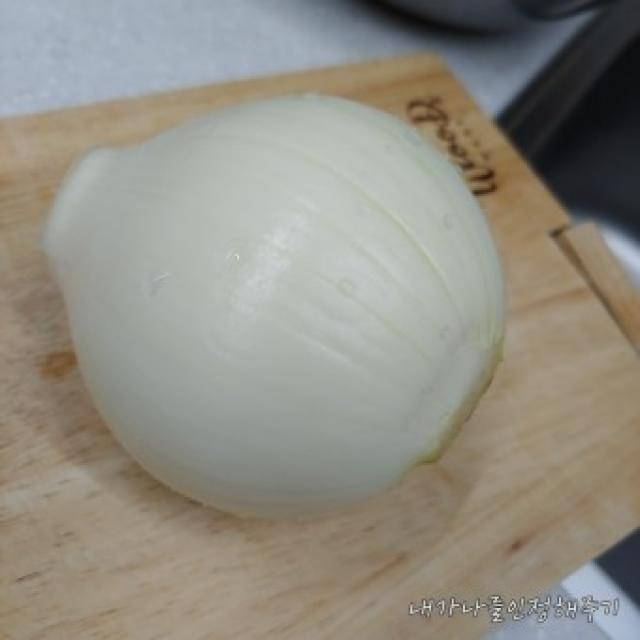onion: (36, 71, 519, 529)
